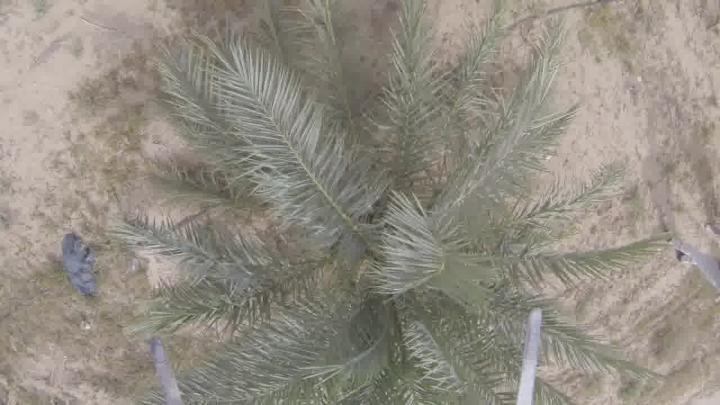Date-Palm-Crown: (225, 117, 539, 405)
